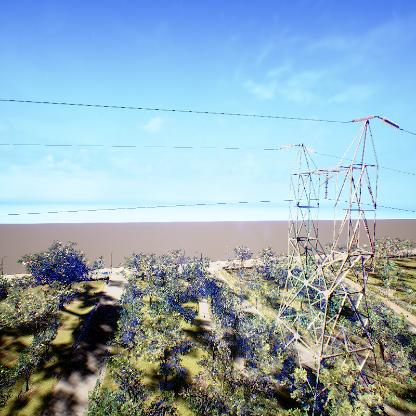tower: (268, 109, 403, 415)
